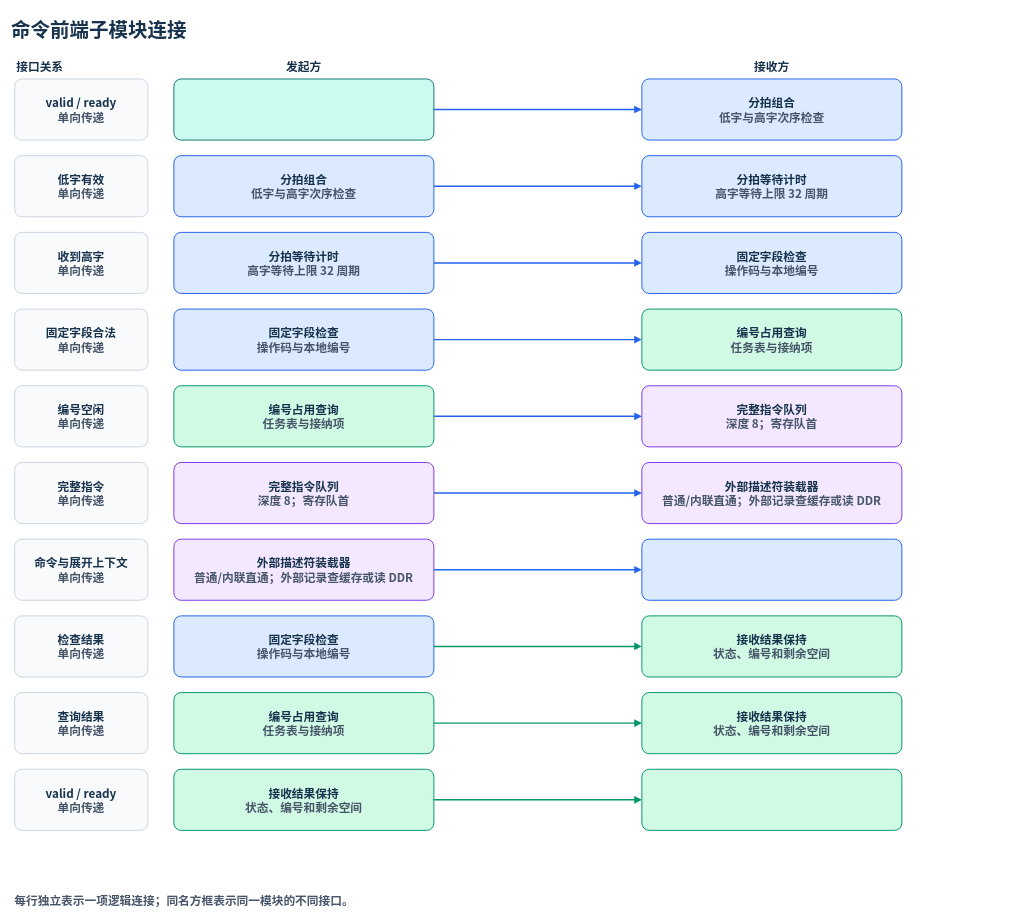
The diagram is 1010 pixels wide and 924 high, and some of its shapes have lost their labels. The shapes that lost their labels are listed below. From the top down, each one's centre as x and y in pixels, then its label:
the point at 303,109: 命令分拍 64-bit 数据与起止标志
the point at 771,569: 任务调度器 命令、descriptor 状态与地址快照
the point at 771,799: 接收结果接口 64-bit 结果
